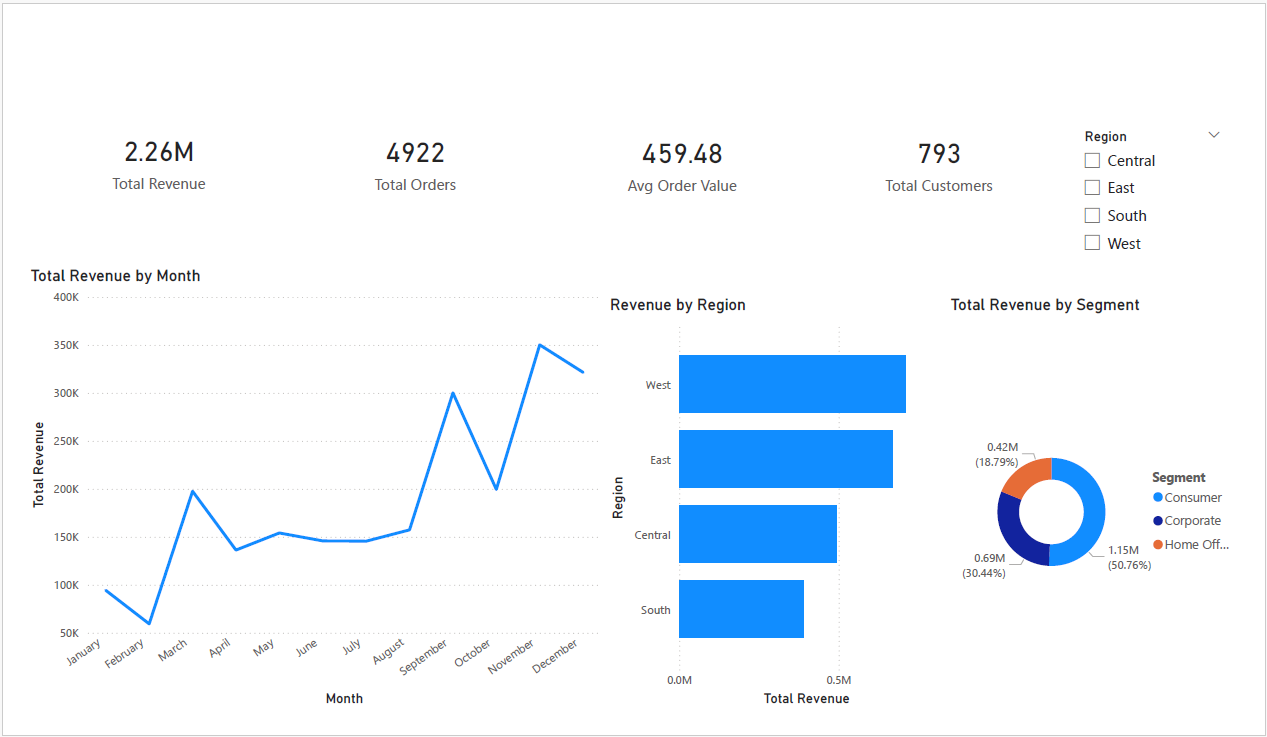

Layout of this report page (visuals, bound fields, positions):
{"tool":"powerbi","page":{"name":"Overview","canvas":[1280,720],"ordinal":0},"visuals":[{"type":"card","fields":{"Values":["train.Total Revenue"]},"box":[0,0,280.4,280.4],"z":0},{"type":"card","fields":{"Values":["train.Total Orders"]},"box":[269.1,1.4,280.4,279],"z":1},{"type":"card","fields":{"Values":["train.Avg Order Value"]},"box":[549.5,1.4,280.4,280.4],"z":2},{"type":"card","fields":{"Values":["train.Total Customers"]},"box":[820,1.4,280.4,280.4],"z":3},{"type":"lineChart","fields":{"Category":["train.Order Date.Variation.Date Hierarchy.Year","train.Order Date.Variation.Date Hierarchy.Quarter","train.Order Date.Variation.Date Hierarchy.Month","train.Order Date.Variation.Date Hierarchy.Day"],"Y":["train.Total Revenue"]},"box":[0,250.7,609,468.8],"z":4},{"type":"barChart","title":"Revenue by Region","fields":{"Category":["train.Region"],"Y":["train.Total Revenue"]},"box":[609,281.8,365.4,437.6],"z":5},{"type":"donutChart","fields":{"Category":["train.Segment"],"Y":["train.Total Revenue"]},"box":[967.3,281.8,313,437.6],"z":6},{"type":"slicer","fields":{"Values":["train.Region"]},"box":[1100.4,102,167.1,168.5],"z":7}]}

Visuals, with their boxes on the page's 1280x720 design canvas (x1, y1, x2, y2). These are canvas units, not pixel positions in the 1267x737 screenshot, which may show the page scaled, cropped or inside an application window:
card - train.Total Revenue: Rect(0, 0, 280, 280)
card - train.Total Orders: Rect(269, 1, 550, 280)
card - train.Avg Order Value: Rect(550, 1, 830, 282)
card - train.Total Customers: Rect(820, 1, 1100, 282)
lineChart - train.Order Date.Variation.Date Hierarchy.Year x train.Order Date.Variation.Date Hierarchy.Quarter: Rect(0, 251, 609, 720)
"Revenue by Region" barChart: Rect(609, 282, 974, 719)
donutChart - train.Segment x train.Total Revenue: Rect(967, 282, 1280, 719)
slicer - train.Region: Rect(1100, 102, 1268, 270)
